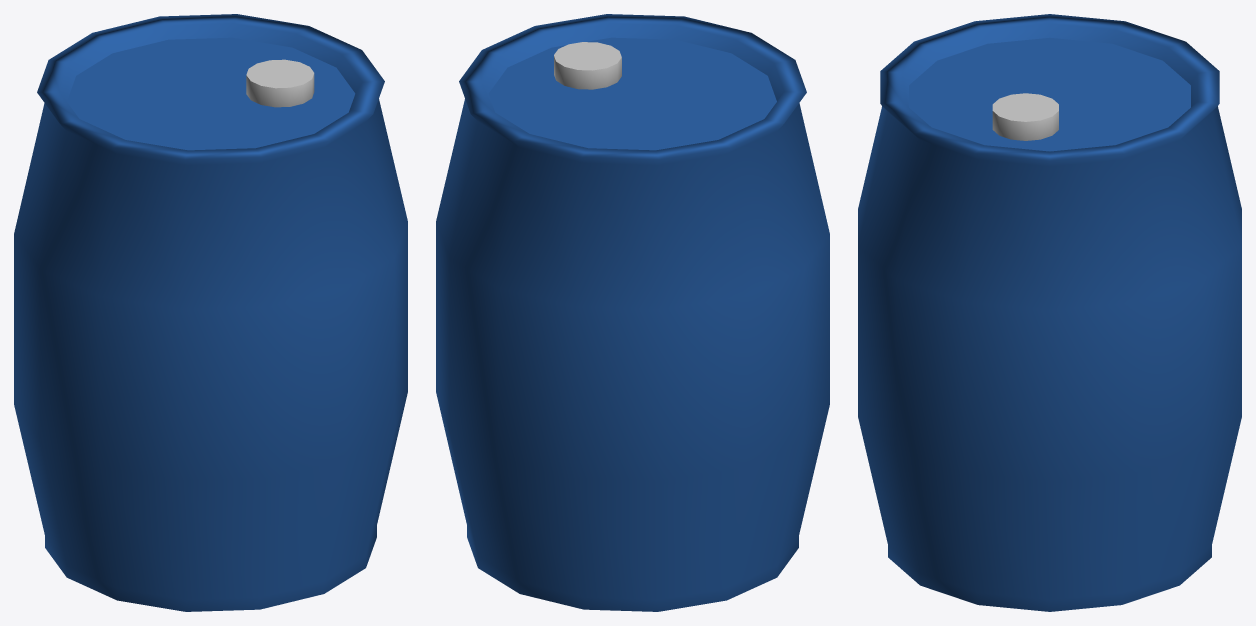
The model's file is Chemical Barrel.fbx.
3 views of the same model, side by side, from view 1: azimuth 30°, elevation 25°; view 2: azimuth 150°, elevation 25°; view 3: azimuth 270°, elevation 25° (orthographic).
Visible parts, largest first — view 1: Barrel Chemical; view 2: Barrel Chemical; view 3: Barrel Chemical.
Part boxes in pixels (bbox=[...]): Barrel Chemical: bbox=[14, 14, 407, 611]; Barrel Chemical: bbox=[436, 14, 829, 611]; Barrel Chemical: bbox=[858, 14, 1241, 611].
Size of the model in its own units: 275 by 356 by 268.
